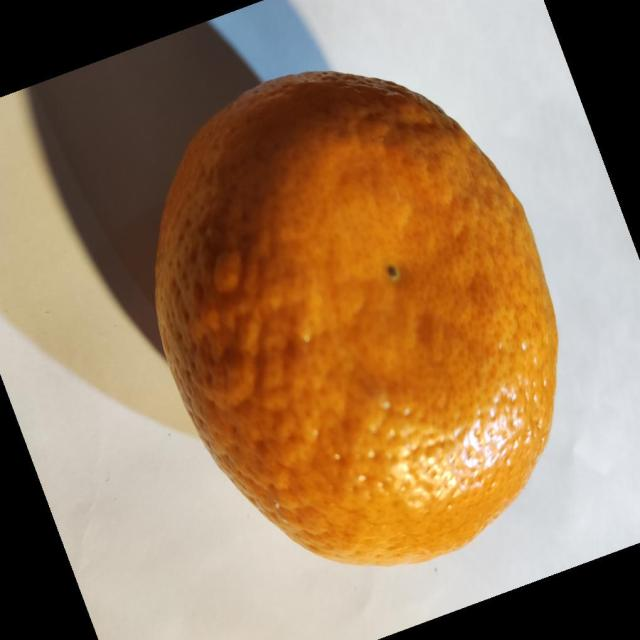fresh orange: (153, 69, 559, 568)
